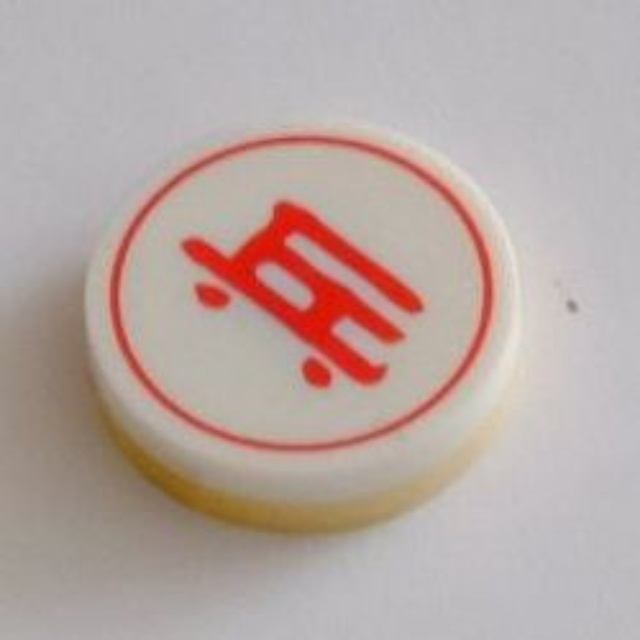red_chot: (71, 111, 541, 534)
